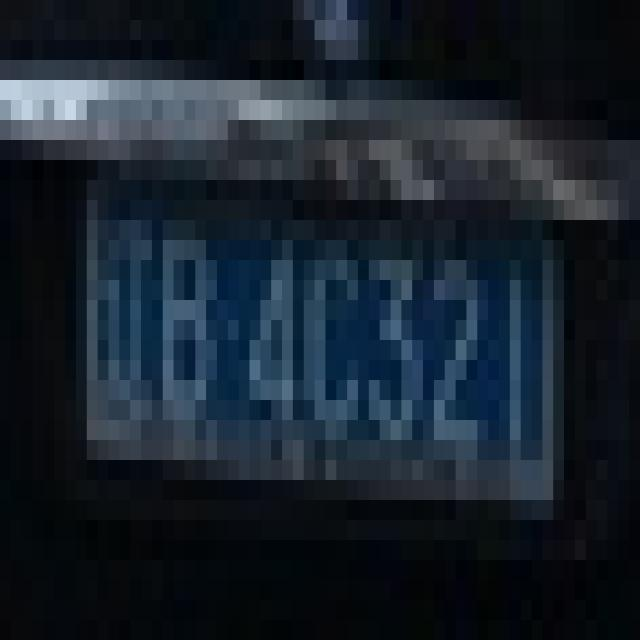licenseplate: (70, 164, 592, 538)
